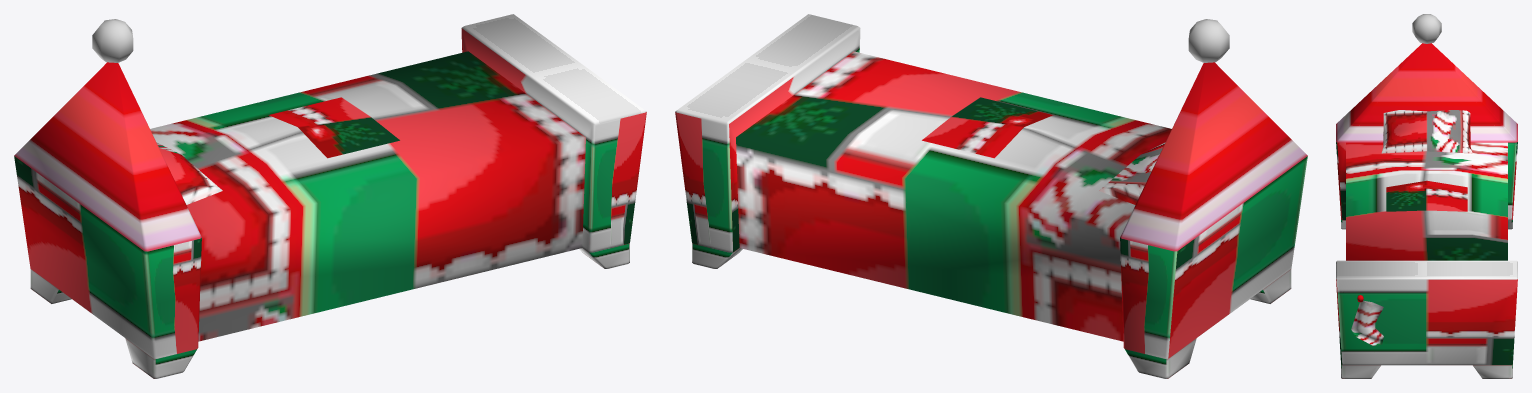
The model's file is int_xms_bedS.dae.
3 renders of one model, left to right at view 1: azimuth 30°, elevation 25°; view 2: azimuth 150°, elevation 25°; view 3: azimuth 270°, elevation 25°, orthographic. The views are drawn at different scales.
Parts seen in each view (by area): view 1: int_xms_bedS; view 2: int_xms_bedS; view 3: int_xms_bedS.
Part boxes in pixels (x1,y1,x2,y2): int_xms_bedS: (14,14,646,378); int_xms_bedS: (675,14,1307,378); int_xms_bedS: (1336,14,1517,378).
Size of the model in its own units: 63.83 by 36.9 by 28.8.
2 materials, 2 textured.
